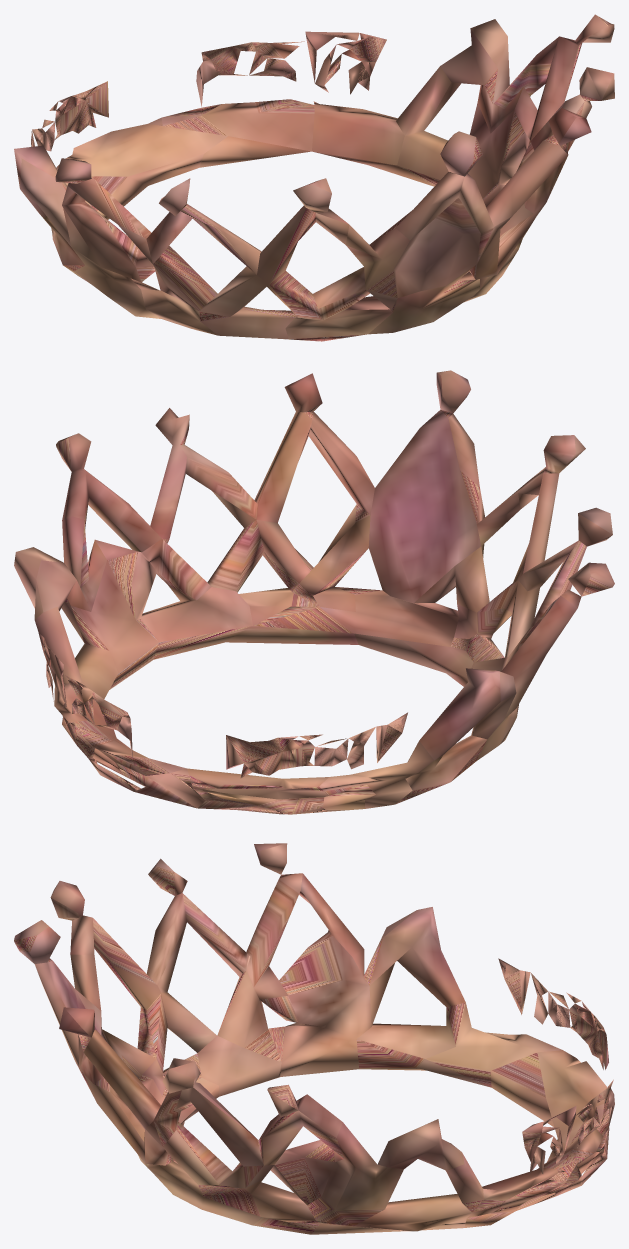
3 views of the same model, one above another, from view 1: azimuth 30°, elevation 25°; view 2: azimuth 150°, elevation 25°; view 3: azimuth 270°, elevation 25° (orthographic). The views are drawn at different scales.
Parts seen in each view (by area): view 1: Pink-Crown-24; view 2: Pink-Crown-24; view 3: Pink-Crown-24.
Part boxes in pixels (x1,y1,x2,y2): Pink-Crown-24: [14, 14, 614, 341]; Pink-Crown-24: [14, 370, 614, 814]; Pink-Crown-24: [14, 843, 614, 1234].
Size of the model in its own units: 0.2812 by 0.1144 by 0.2658.
Materials: 1 (1 with a texture image).
